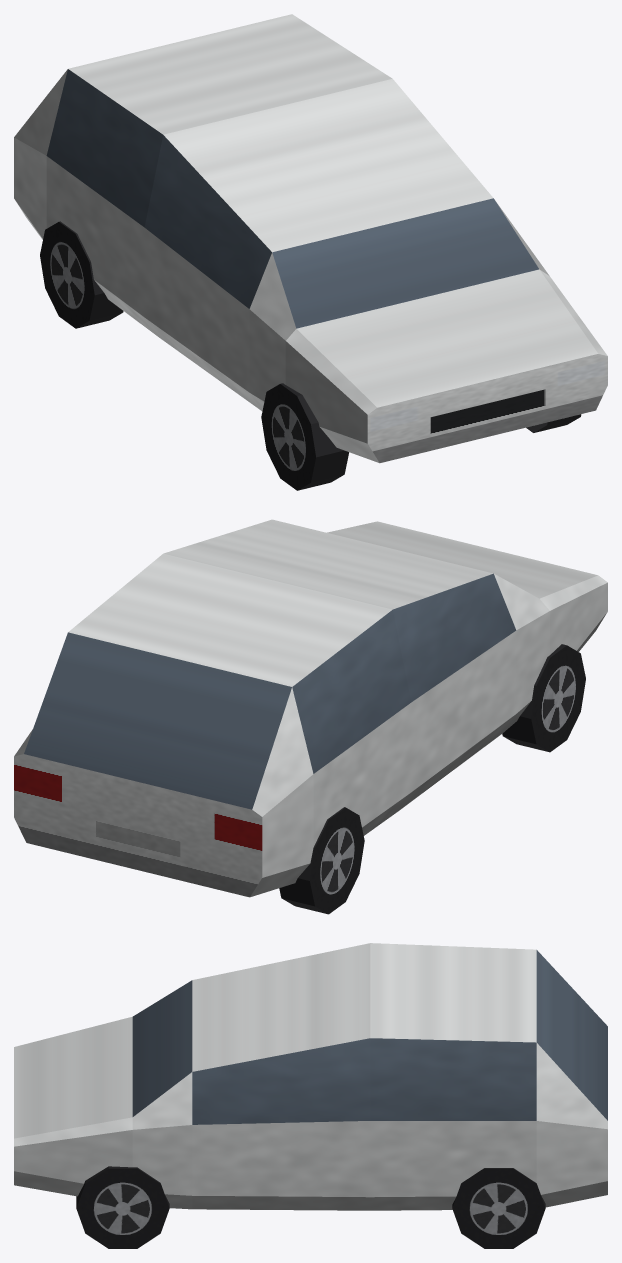
Rendered from SM_Morin_Auto_A_LOD1.fbx.
The picture shows the model from 3 angles, top to bottom: view 1: azimuth 30°, elevation 25°; view 2: azimuth 150°, elevation 25°; view 3: azimuth 270°, elevation 25°; orthographic projection. The views are drawn at different scales.
Parts seen in each view (by area): view 1: SM_Morin_Auto_A_LOD1; view 2: SM_Morin_Auto_A_LOD1; view 3: SM_Morin_Auto_A_LOD1.
Part boxes in pixels (bbox=[...]): SM_Morin_Auto_A_LOD1: bbox=[14, 14, 607, 490]; SM_Morin_Auto_A_LOD1: bbox=[14, 519, 607, 914]; SM_Morin_Auto_A_LOD1: bbox=[14, 943, 607, 1248].
Size of the model in its own units: 176 by 395 by 148.
1 material, 1 textured.
